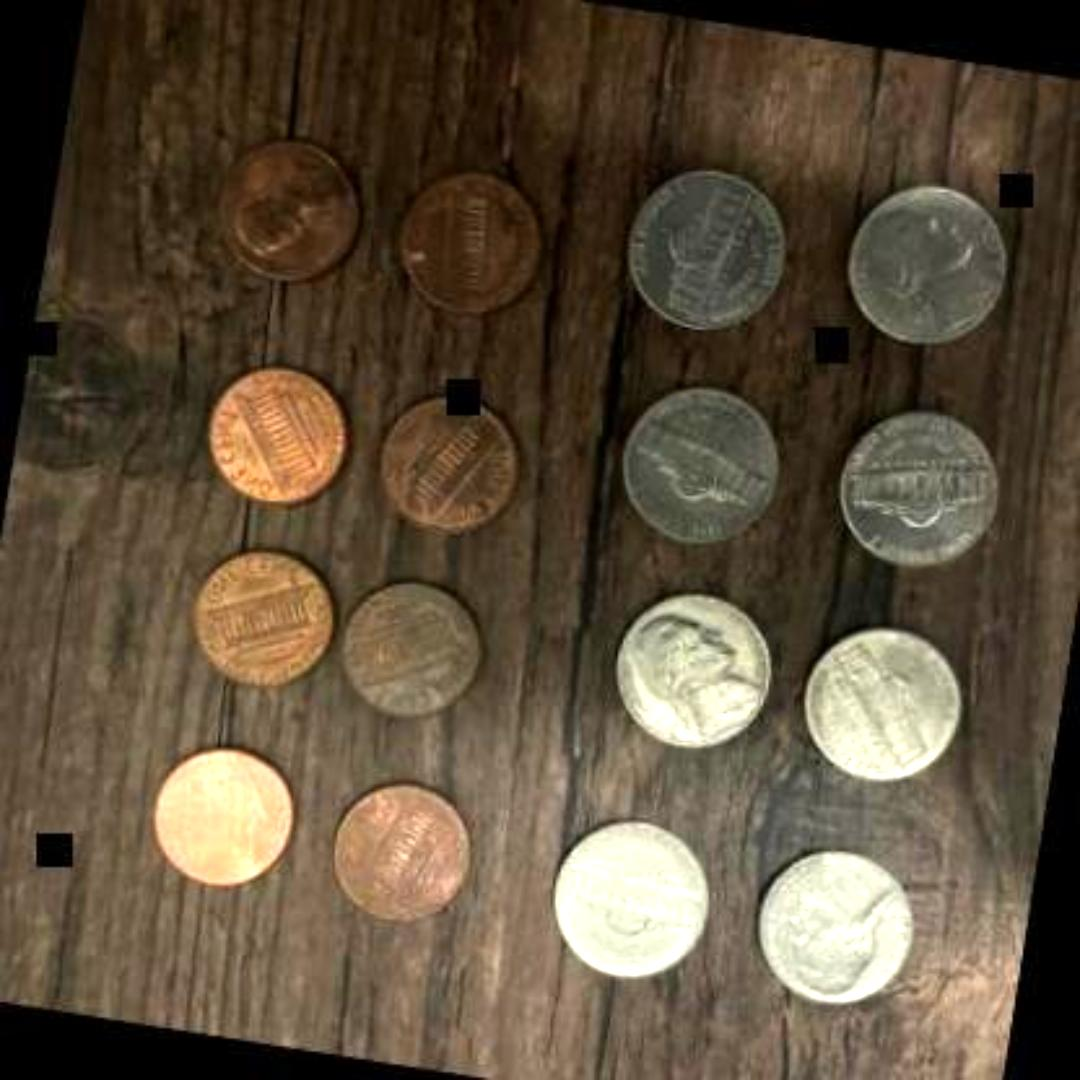Nickel: (822, 169, 1022, 353), (734, 831, 928, 1017), (600, 370, 794, 554), (529, 802, 715, 990), (612, 151, 792, 343), (815, 392, 999, 578), (592, 582, 776, 762), (784, 612, 968, 792)
Penny: (378, 151, 554, 327), (170, 528, 342, 700), (321, 562, 497, 730), (186, 348, 362, 516), (131, 732, 307, 894), (358, 378, 524, 544), (196, 128, 364, 292), (308, 765, 476, 925)
